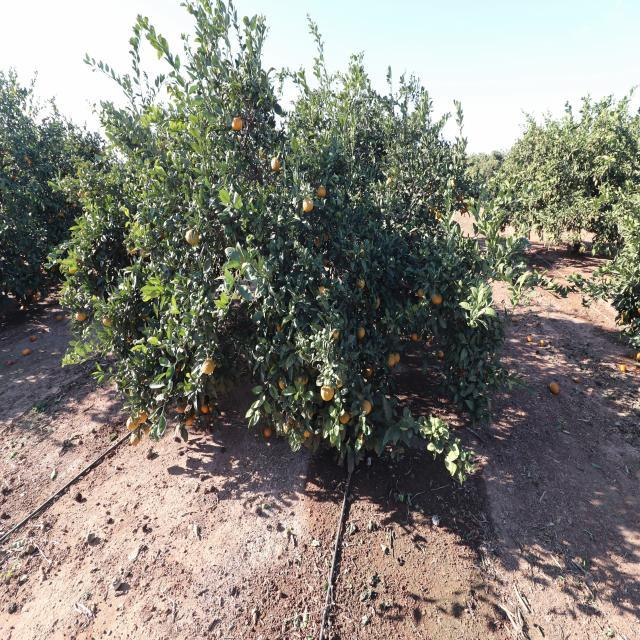Jeruk Sudah Matang: (320, 384, 338, 406), (296, 372, 314, 390), (186, 228, 202, 246), (124, 414, 139, 432), (354, 276, 370, 292), (392, 348, 407, 365), (202, 358, 216, 376), (360, 400, 374, 418), (74, 304, 88, 322), (183, 412, 196, 430), (338, 410, 352, 426), (430, 290, 444, 306), (302, 198, 314, 216), (356, 325, 368, 343), (104, 312, 115, 331), (387, 350, 397, 370), (231, 118, 245, 132), (370, 298, 384, 312), (316, 185, 329, 200), (363, 364, 375, 380), (317, 283, 328, 300), (263, 426, 276, 440), (136, 410, 151, 422), (302, 426, 312, 444), (128, 434, 145, 444), (412, 330, 424, 344), (434, 209, 446, 221), (271, 157, 282, 170), (330, 329, 340, 342), (278, 377, 288, 390), (72, 262, 80, 278), (416, 286, 425, 298), (202, 403, 210, 416), (178, 402, 186, 415), (158, 142, 166, 152), (438, 352, 446, 361)
